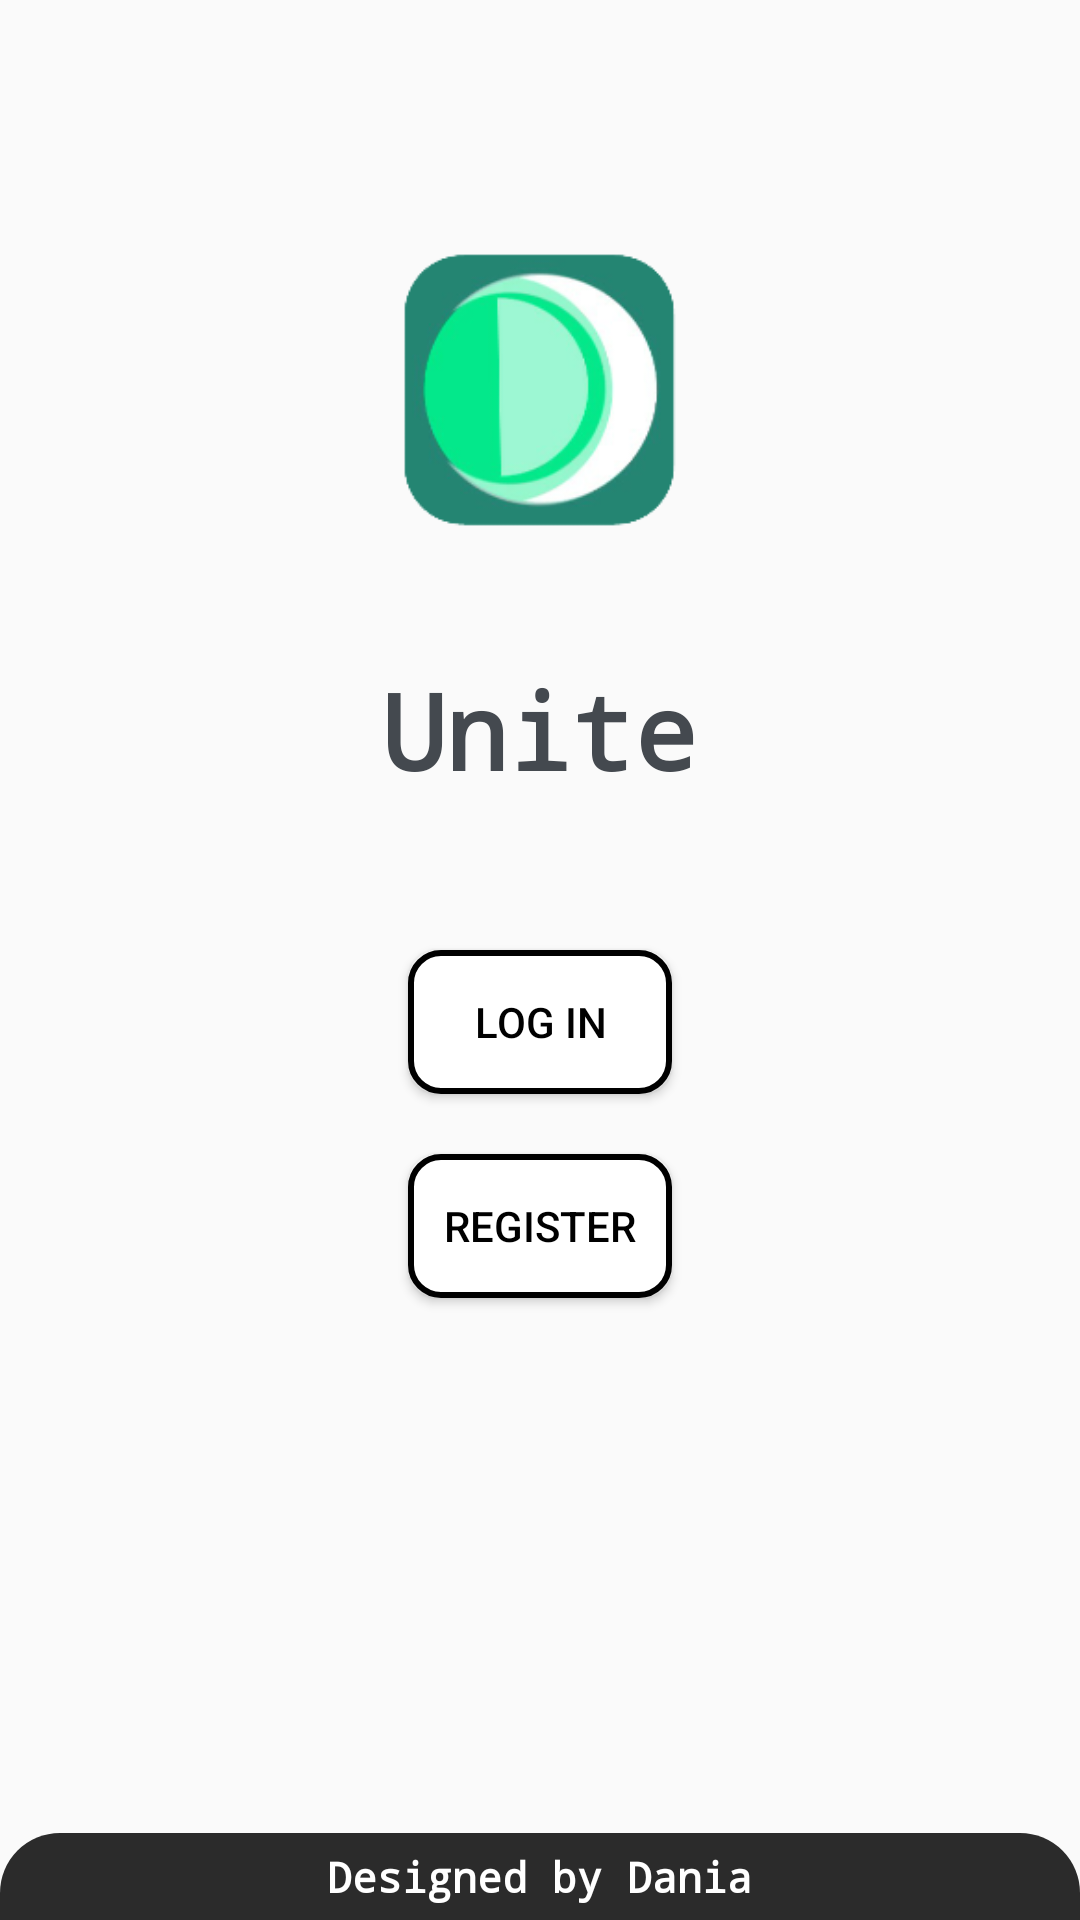

Locate icon controls on the screen. Image size 1080×1920, boxes as region(x1, y1, x2, y2).
app: region(404, 254, 675, 526)
